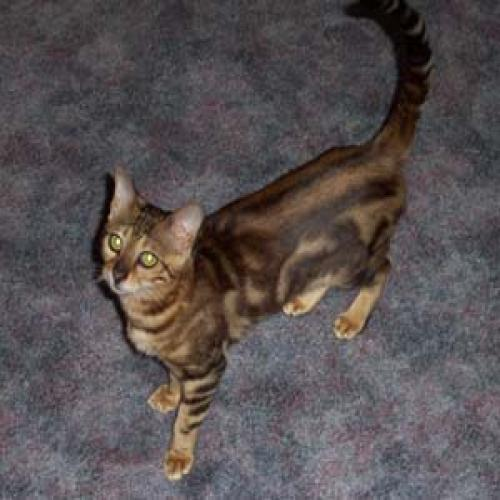cat-face: (83, 170, 215, 315)
